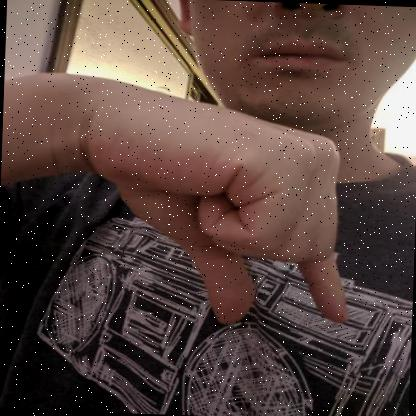Q: (90, 77, 349, 325)
